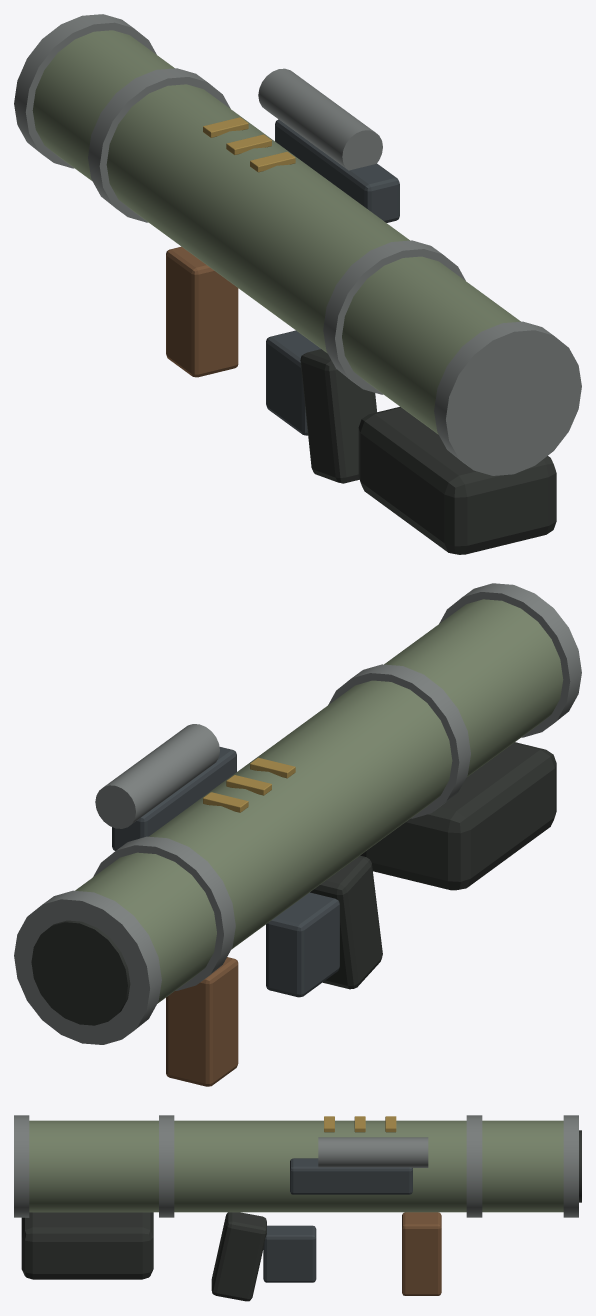
The model's file is noir-rocket.glb.
3 renders of one model, top to bottom at view 1: azimuth 30°, elevation 25°; view 2: azimuth 150°, elevation 25°; view 3: azimuth 270°, elevation 25°, orthographic. The views are drawn at different scales.
Visible parts, largest first — view 1: launcher-enamel, weapon-machined-steel.004, weapon-grip.005, weapon-walnut.004, weapon-blued-steel.006, weapon-brass; view 2: launcher-enamel, weapon-grip.005, weapon-machined-steel.004, weapon-blued-steel.006, weapon-walnut.004, weapon-brass; view 3: launcher-enamel, weapon-grip.005, weapon-machined-steel.004, weapon-blued-steel.006, weapon-walnut.004, weapon-brass.
Part boxes in pixels (bbox=[...]): launcher-enamel: bbox=[32, 30, 520, 434]; weapon-machined-steel.004: bbox=[14, 14, 581, 475]; weapon-grip.005: bbox=[300, 349, 556, 554]; weapon-walnut.004: bbox=[166, 246, 238, 377]; weapon-blued-steel.006: bbox=[266, 119, 399, 435]; weapon-brass: bbox=[203, 117, 295, 172]; launcher-enamel: bbox=[75, 599, 563, 1003]; weapon-grip.005: bbox=[31, 742, 556, 1025]; weapon-machined-steel.004: bbox=[14, 583, 581, 1044]; weapon-blued-steel.006: bbox=[112, 747, 339, 997]; weapon-walnut.004: bbox=[166, 957, 238, 1086]; weapon-brass: bbox=[203, 757, 295, 812]; launcher-enamel: bbox=[29, 1120, 563, 1212]; weapon-grip.005: bbox=[21, 1130, 581, 1301]; weapon-machined-steel.004: bbox=[14, 1115, 578, 1217]; weapon-blued-steel.006: bbox=[263, 1158, 412, 1282]; weapon-walnut.004: bbox=[402, 1212, 441, 1295]; weapon-brass: bbox=[324, 1116, 396, 1132].
Size of the model in its own units: 0.292 by 0.4602 by 1.29.
